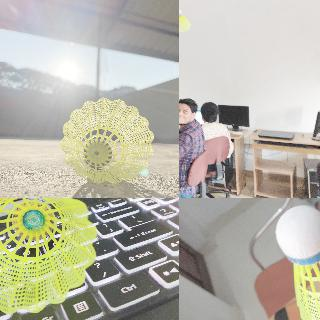shuttlecock: (0, 198, 96, 314), (60, 97, 154, 183), (275, 205, 319, 319), (179, 7, 192, 34)
